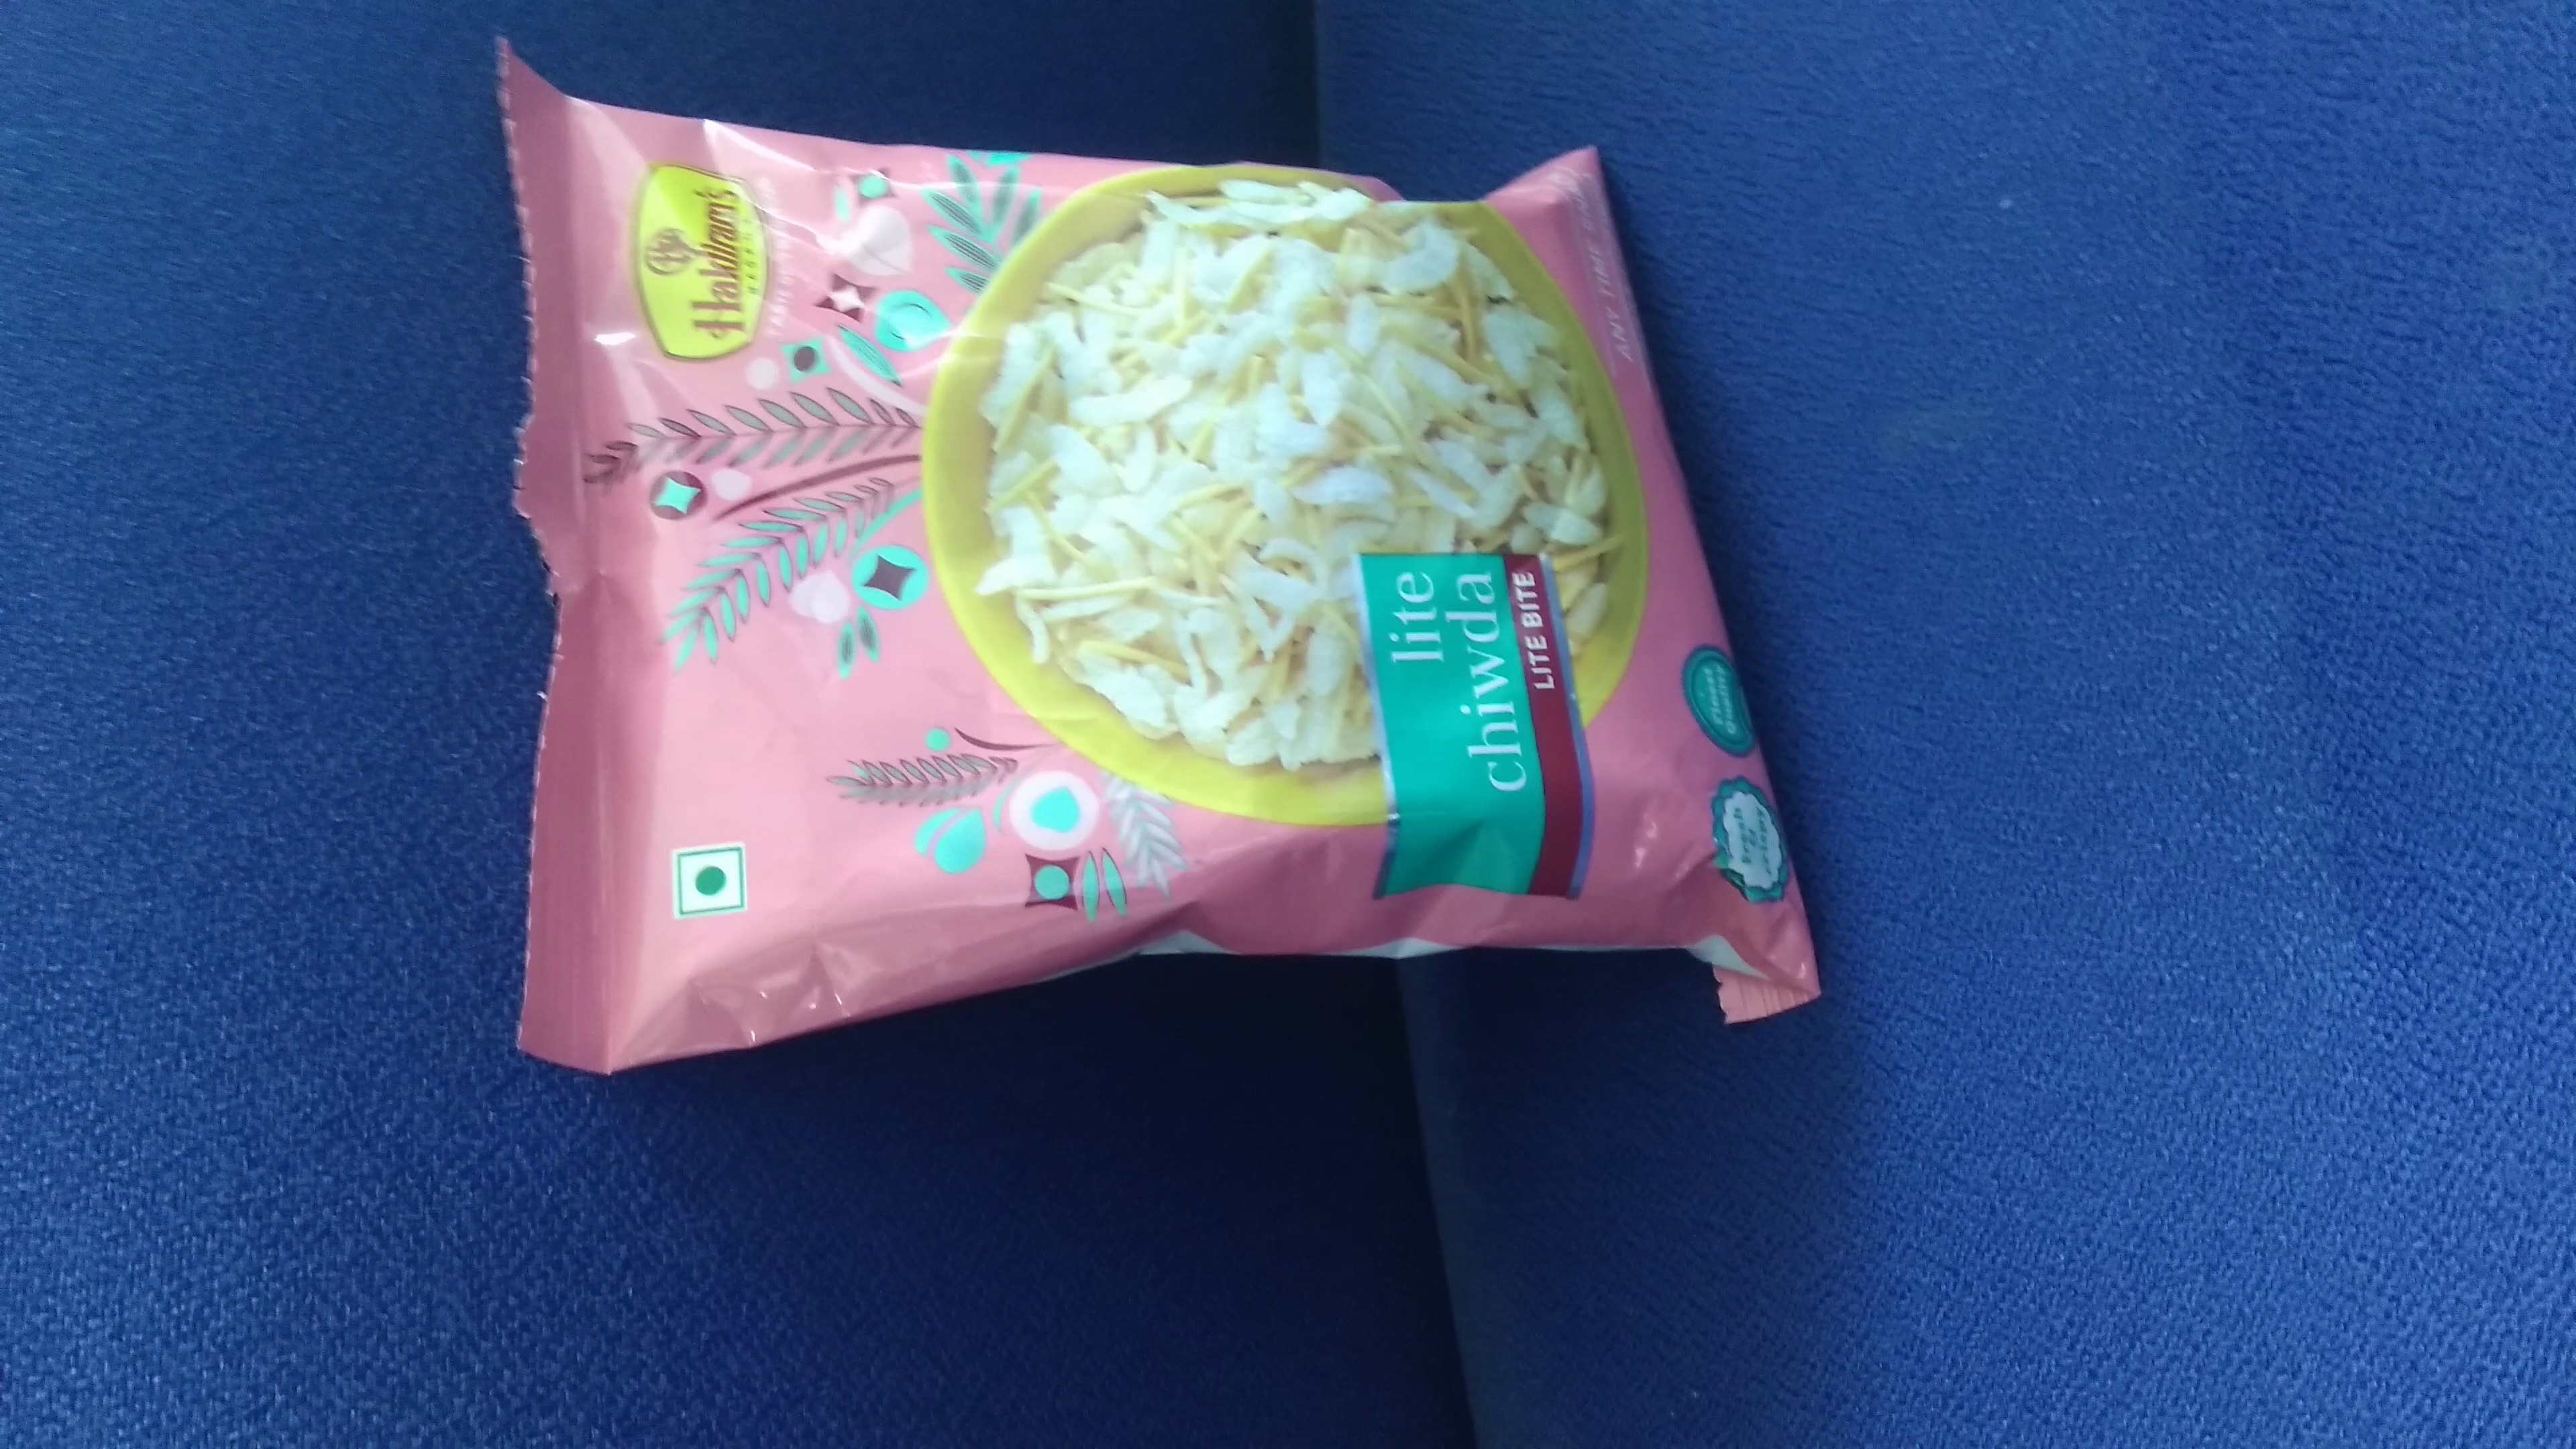liteChiwda: (479, 37, 1824, 1074)
